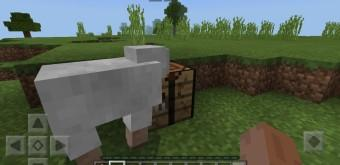sheep: (34, 43, 170, 153)
